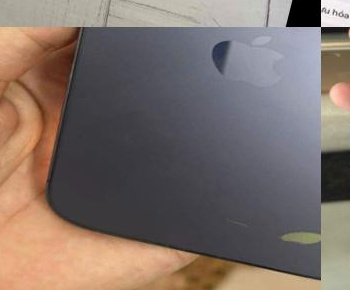scratch: (270, 212, 321, 257), (210, 205, 266, 244)
